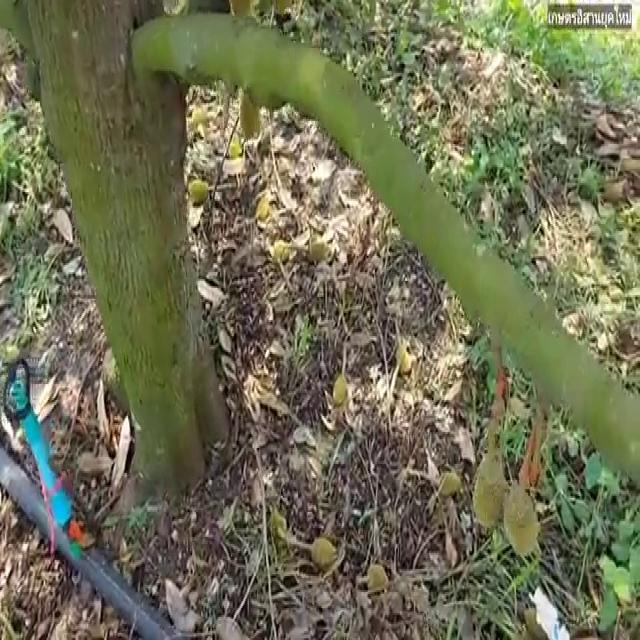durian: (467, 447, 508, 537), (502, 478, 542, 562)
